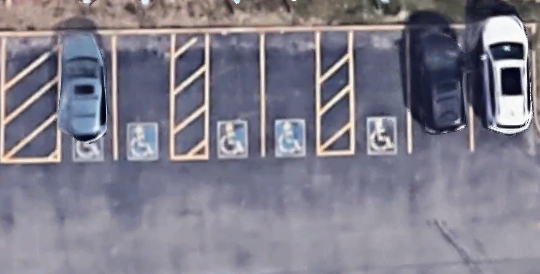Occupied: (408, 28, 472, 153), (472, 28, 534, 153), (59, 32, 116, 162)
Vacant: (351, 28, 411, 154), (115, 31, 172, 161), (207, 30, 264, 158), (263, 31, 318, 157)
